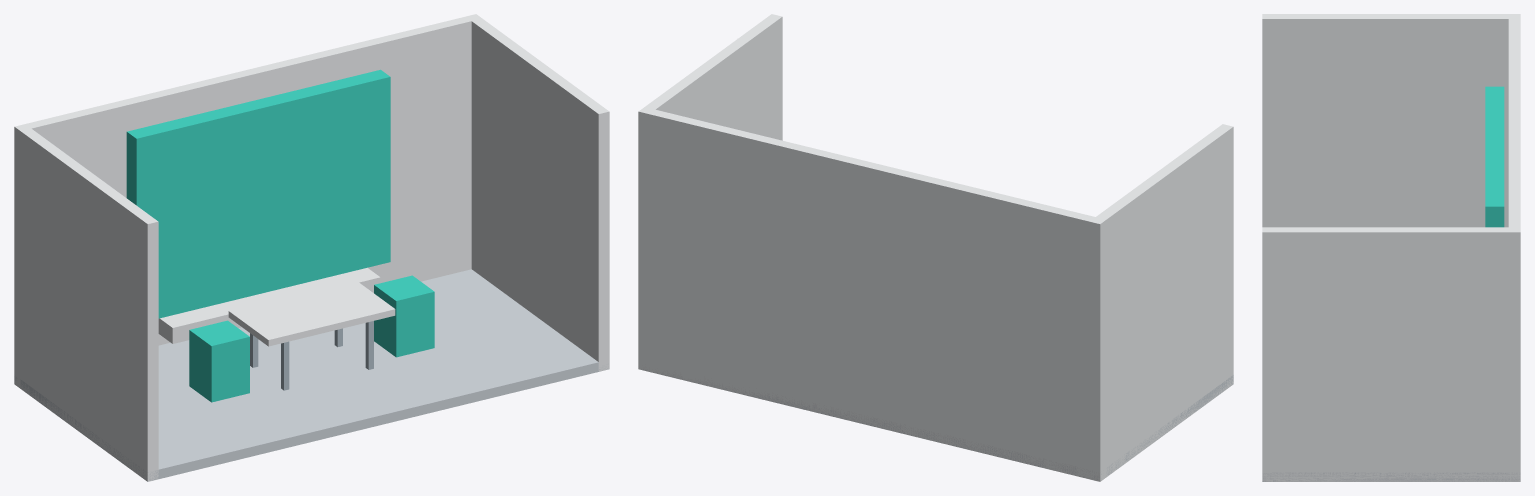
3 renders of one model, left to right at view 1: azimuth 30°, elevation 25°; view 2: azimuth 150°, elevation 25°; view 3: azimuth 270°, elevation 25°, orthographic. The views are drawn at different scales.
Visible parts, largest first — view 1: Exhibition Booth Concept; view 2: Exhibition Booth Concept; view 3: Exhibition Booth Concept.
Part boxes in pixels (x1,y1,x2,y2): Exhibition Booth Concept: [14, 14, 609, 481]; Exhibition Booth Concept: [638, 14, 1233, 481]; Exhibition Booth Concept: [1262, 14, 1520, 481].
Size of the model in its own units: 6 by 3.2 by 3.
